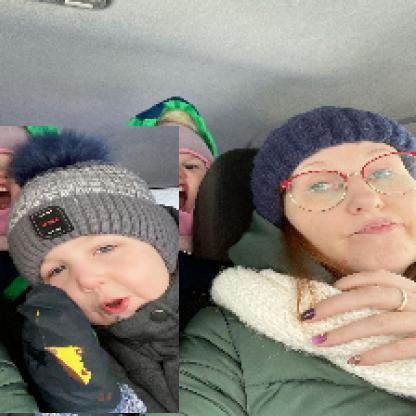child: (1, 127, 181, 415), (121, 96, 220, 213)
